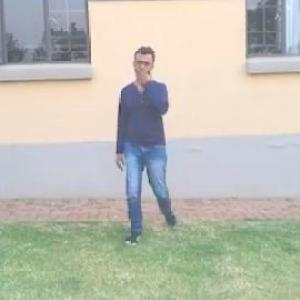follow: (116, 44, 176, 236)
